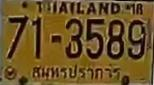1: (31, 16, 40, 58)
3: (65, 18, 82, 58)
5: (86, 18, 104, 58)
7: (8, 15, 27, 58)
8: (106, 19, 124, 58)
9: (127, 18, 145, 58)
SPK: (30, 63, 122, 81)
